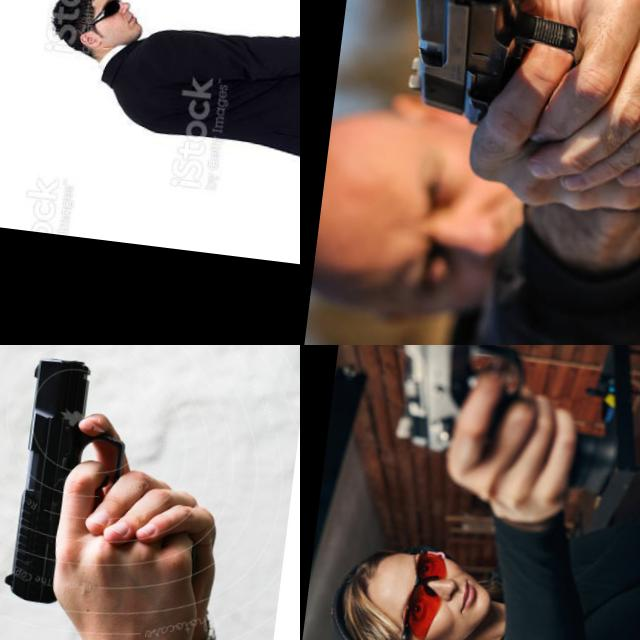handgun: (0, 349, 141, 615), (380, 0, 591, 140), (347, 345, 550, 486)
